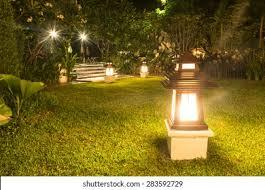Lamp: (162, 49, 214, 163), (104, 59, 117, 83), (138, 56, 150, 80)
